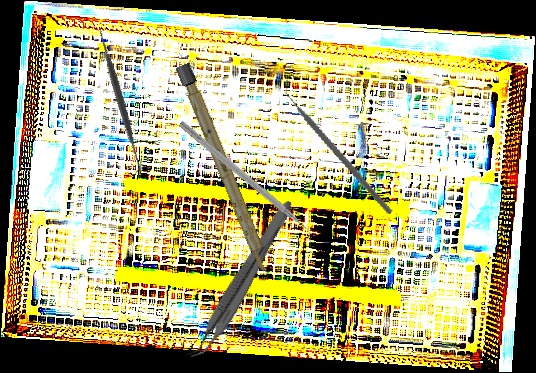Chopper: (257, 77, 421, 216), (172, 120, 318, 247)
Scalpel Handle: (175, 62, 274, 277)
Spatula Surgical: (43, 23, 196, 175)
Tissue Forceps: (185, 193, 297, 367)
